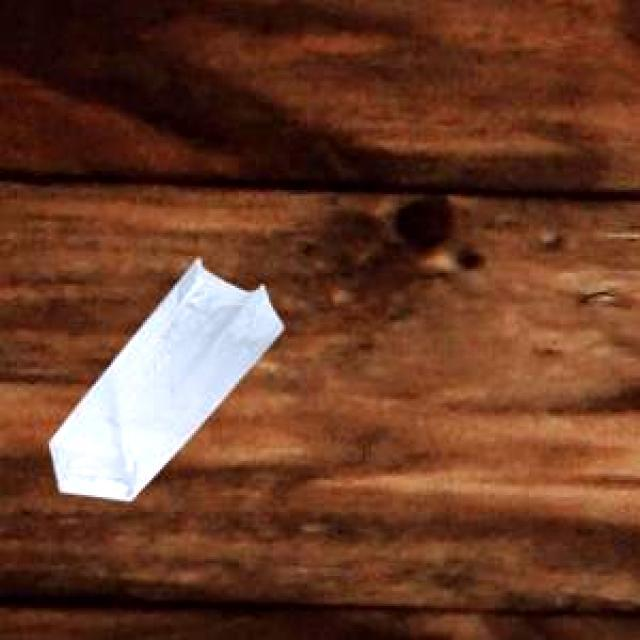Plastic_Bag: (46, 255, 280, 498)
